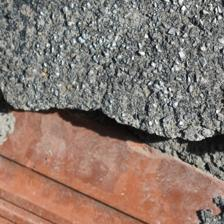Crack: (1, 41, 222, 115)
